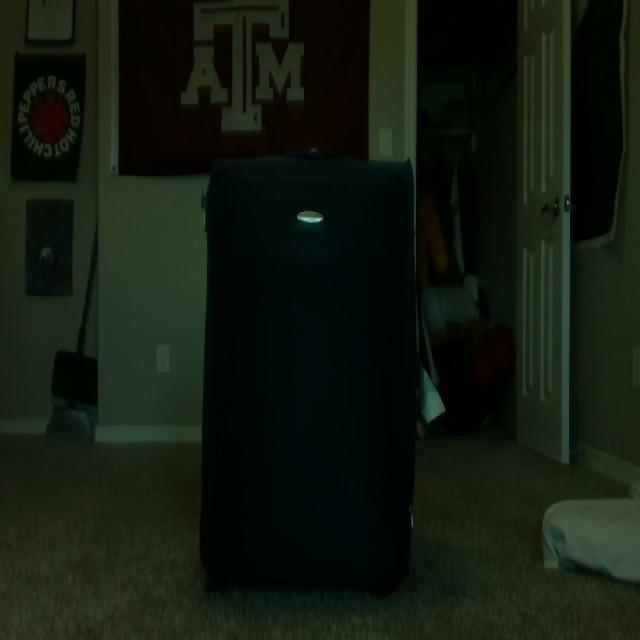suitcase: (198, 148, 421, 597)
